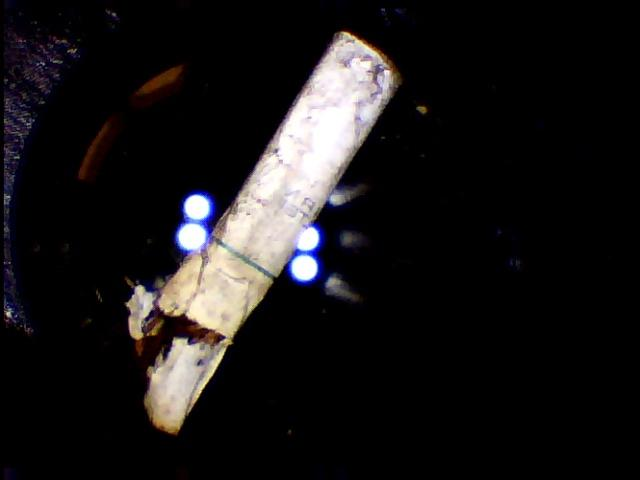megot: (104, 22, 410, 437)
